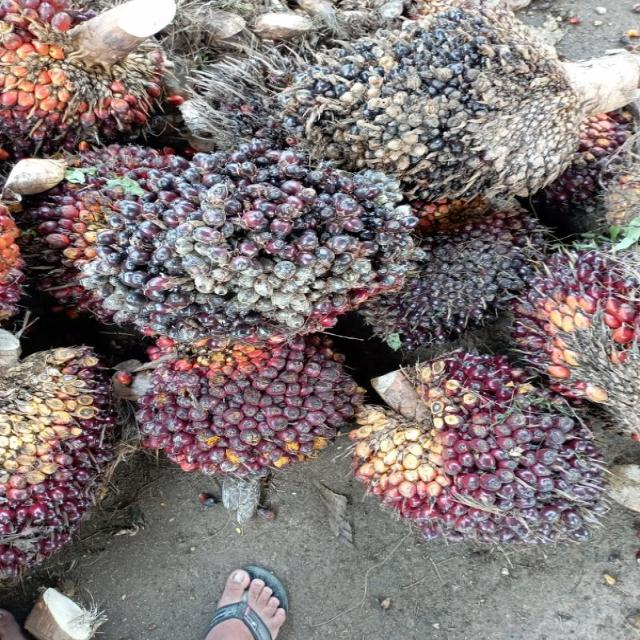fraksi 00: (85, 154, 422, 330), (285, 19, 571, 206)
fraksi 1: (354, 363, 608, 546), (140, 327, 360, 477)
fraksi 3: (0, 0, 187, 144)
